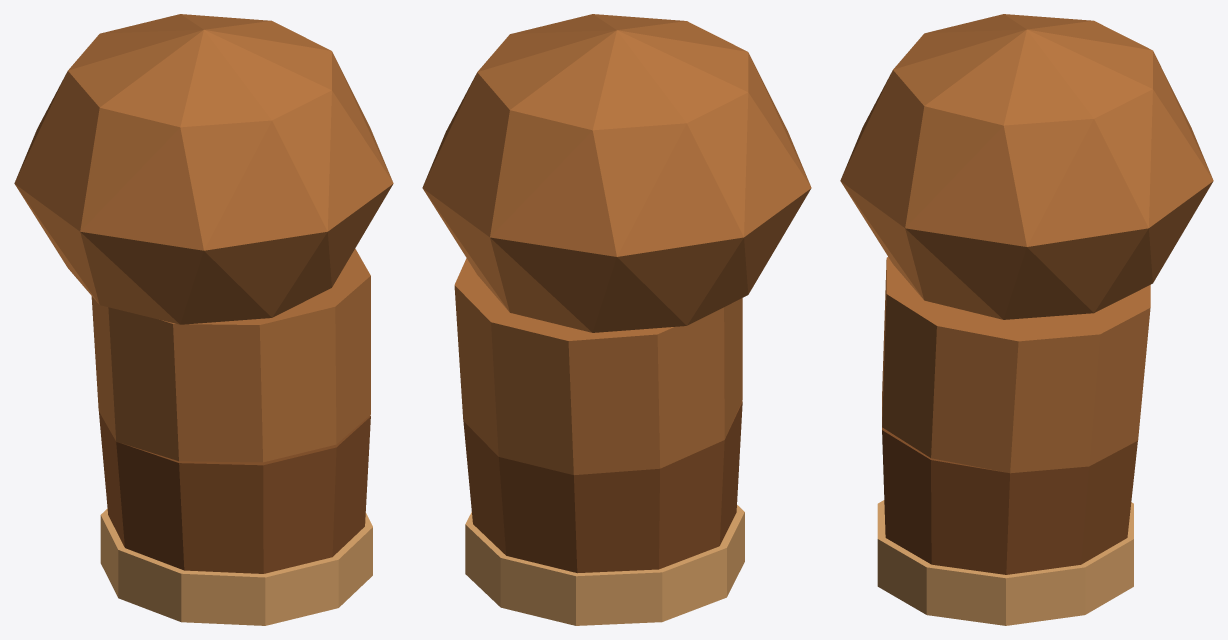
The model's file is gear_bronze_chainbody_arm_r.glb.
3 views of the same model, side by side, from view 1: azimuth 30°, elevation 25°; view 2: azimuth 150°, elevation 25°; view 3: azimuth 270°, elevation 25° (orthographic). The views are drawn at different scales.
Visible parts, largest first — view 1: gear_bronze_chainbody_arm_r; view 2: gear_bronze_chainbody_arm_r; view 3: gear_bronze_chainbody_arm_r.
Boxes of the visible parts, bbox=[...] form: gear_bronze_chainbody_arm_r: bbox=[14, 14, 393, 625]; gear_bronze_chainbody_arm_r: bbox=[422, 14, 811, 625]; gear_bronze_chainbody_arm_r: bbox=[840, 14, 1213, 625].
Bounding box in the file's own units: 0.1746 × 0.277 × 0.1773.
